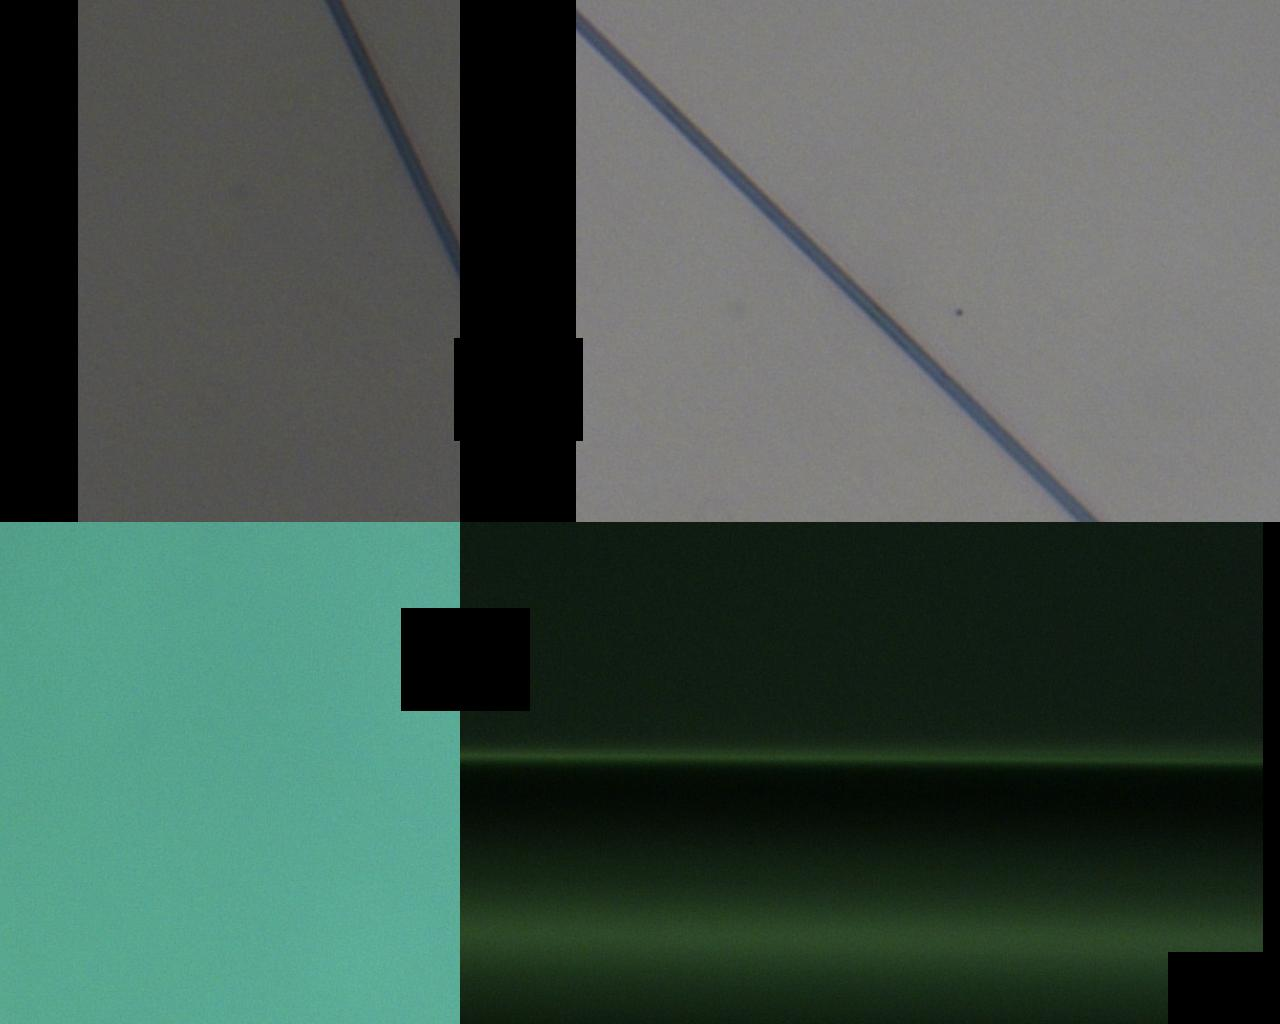fiber: (212, 491, 565, 1024), (857, 540, 1280, 865), (408, 0, 517, 491), (923, 0, 975, 491)
